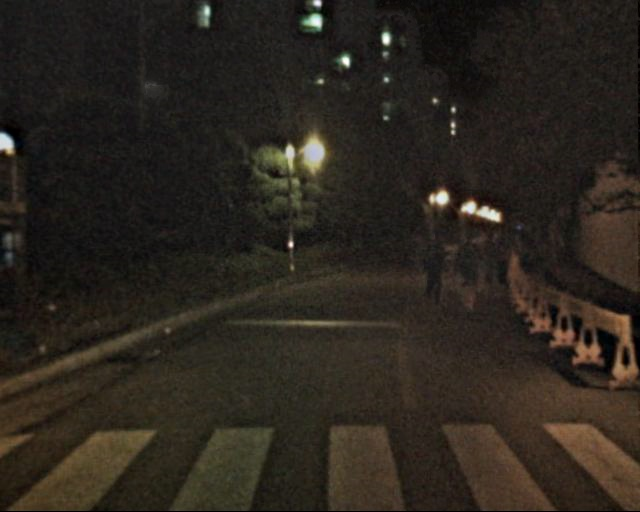person: (414, 229, 448, 312), (449, 231, 482, 312), (495, 228, 520, 289), (476, 233, 500, 291)
